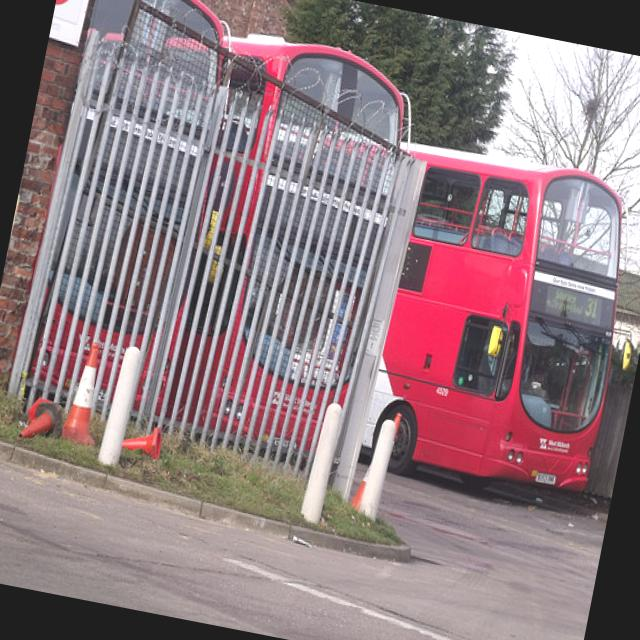Vehicle: (154, 27, 441, 470), (345, 137, 640, 517), (9, 28, 230, 432), (82, 0, 242, 73)
